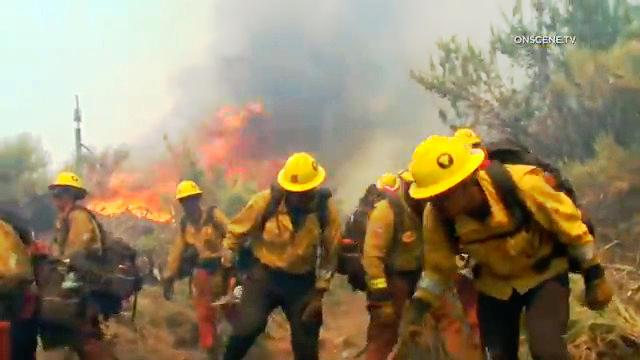smoke: (106, 159, 171, 231)
